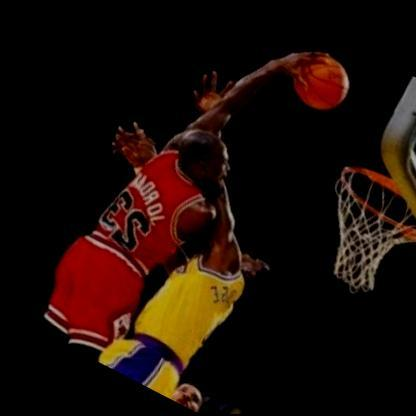basketball: (272, 38, 364, 124)
rim: (283, 151, 416, 307)
